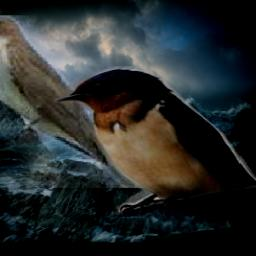Cuckoo: (0, 15, 148, 188)
Swallow: (53, 67, 256, 218)
